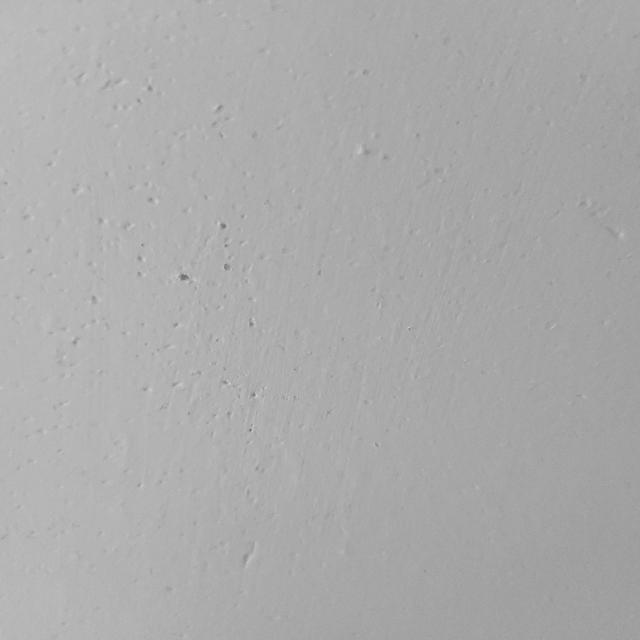rough and patchy surface: (26, 11, 628, 504), (26, 506, 370, 618)
